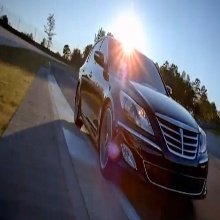no damage: (73, 35, 209, 202)
